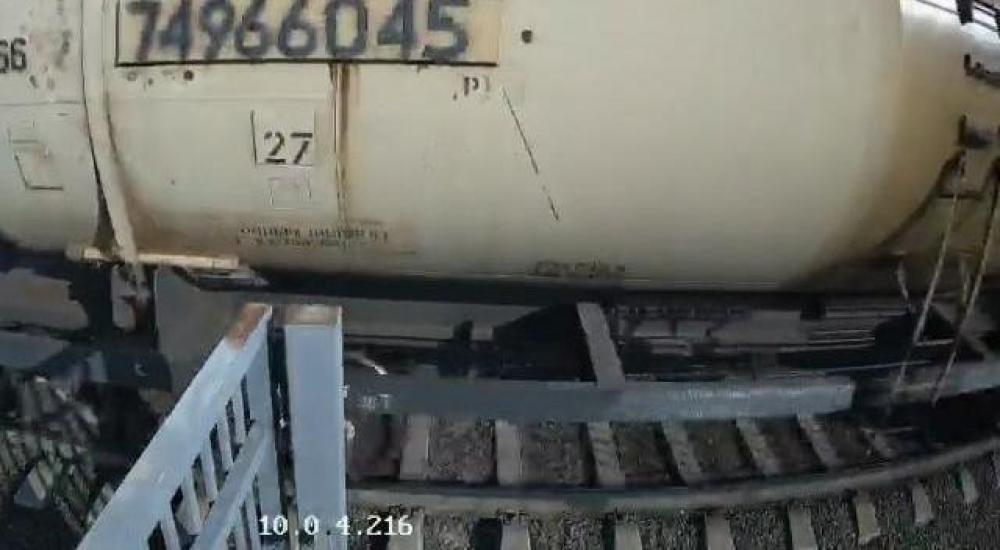Wagon-number: (122, 0, 476, 63)
